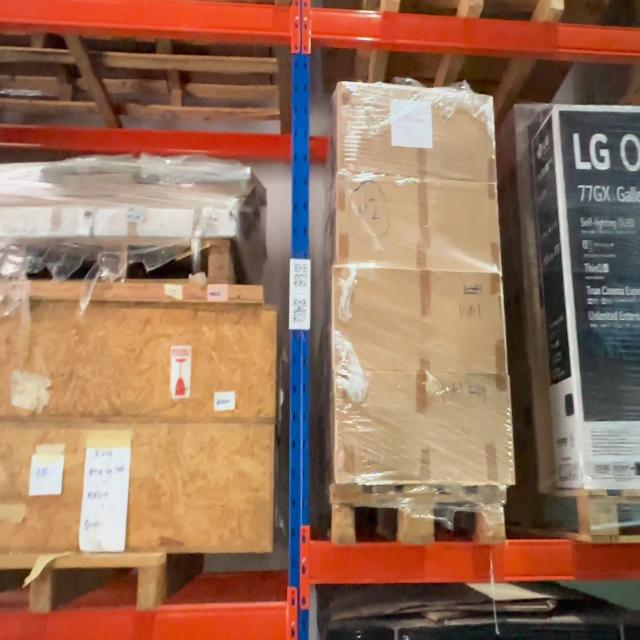box: (333, 266, 503, 480), (340, 87, 496, 266)
